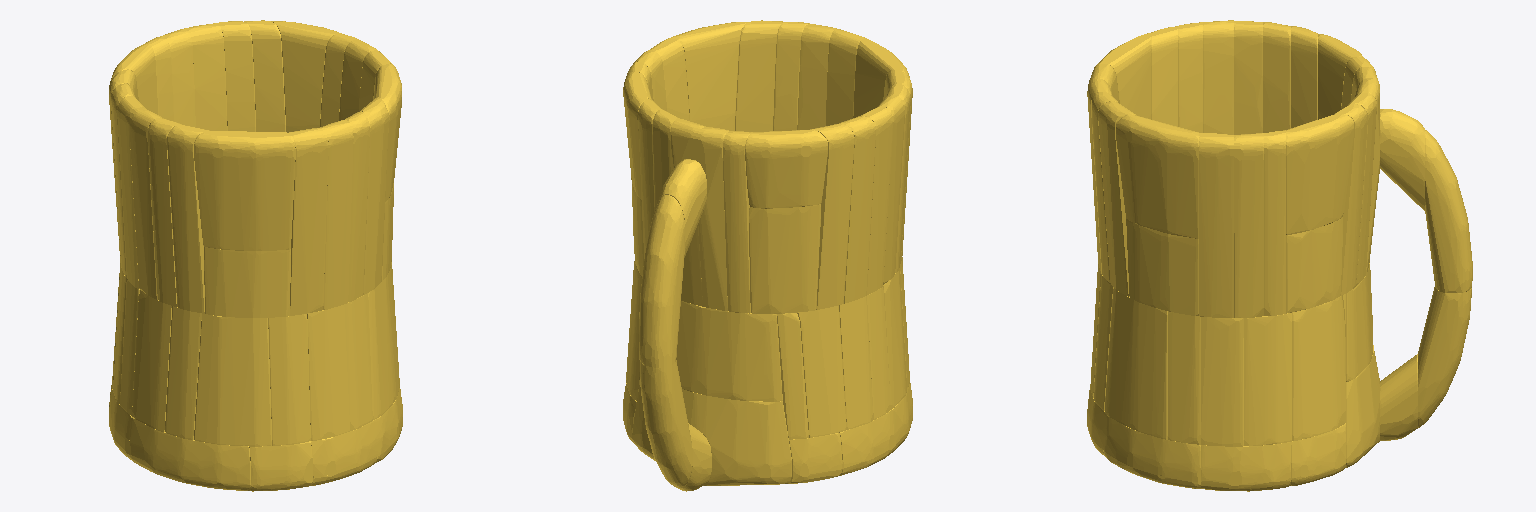
robot.urdf — 1000.urdf:
<?xml version="1.0" ?>
<robot name="1000.urdf">
	<link name="baseLink">
		<inertial>
			<origin rpy="0 0 0" xyz="0 0 0"/>
				<mass value="0.1"/>
				<inertia ixx="6e-5" ixy="0" ixz="0" iyy="6e-5" iyz="0" izz="6e-5"/>
		</inertial>
		<visual>
			<origin rpy="0 0 0" xyz="0 0 0"/>
			<geometry>
				<mesh filename="13_decom_wt.obj" scale="1.02 1.02 0.99"/>
			</geometry>
			<material name="yellow">
				<color rgba="0.98 0.84 0.35 1"/>
			</material>
		</visual>
		<collision>
			<origin rpy="0 0 0" xyz="0 0 0"/>
			<geometry>
				<mesh filename="13_decom_wt.obj" scale="1.02 1.02 0.99"/>
			</geometry>
		</collision>
	</link>
</robot>

--- Render facts (derived) ---
Views: 3 orthographic renders of the robot side by side, from view 1: azimuth 30°, elevation 25°; view 2: azimuth 150°, elevation 25°; view 3: azimuth 270°, elevation 25°.
Model 1000.urdf with 1 links and 0 joints (none), rooted at baseLink, posed every joint at zero.
Links seen in each view (by area): view 1: baseLink; view 2: baseLink; view 3: baseLink.
Boxes of the visible links, left/top/right/bottom form: baseLink: left=109, top=20, right=402, bottom=491; baseLink: left=623, top=20, right=912, bottom=491; baseLink: left=1087, top=20, right=1472, bottom=491.
Bounding box of the posed robot: 0.0914 × 0.1199 × 0.1239 m (x, y, z).
Meshes: 1 distinct files referenced, 1 mesh visuals loaded (1 OBJ).